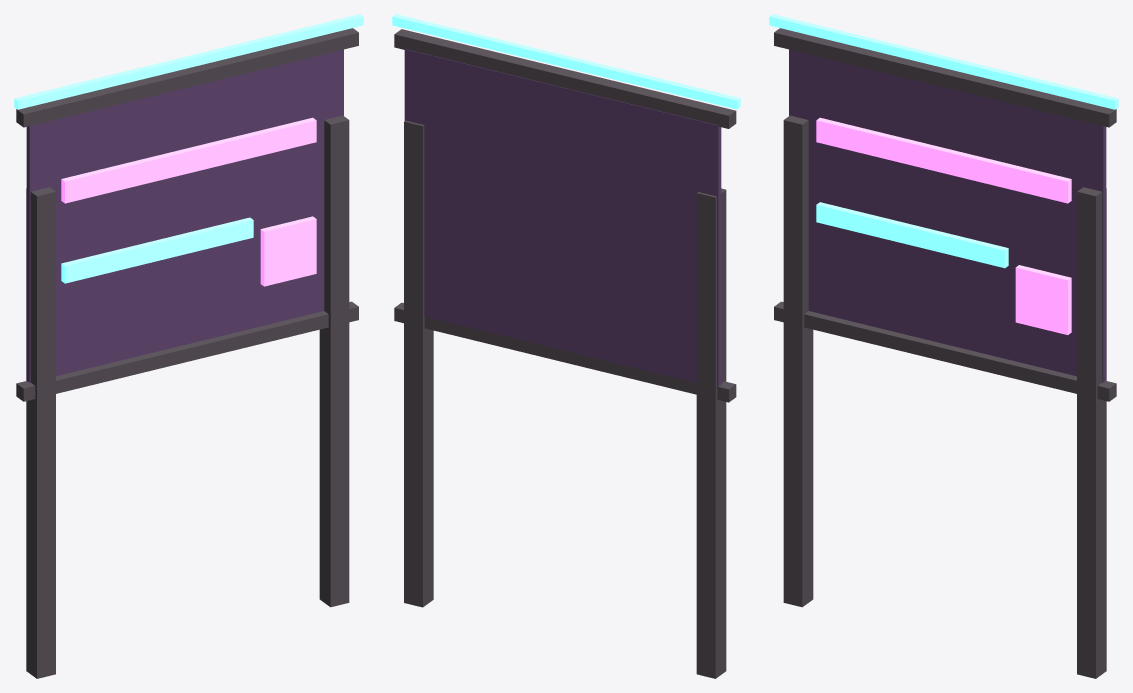
File: env_neon_billboard.glb
3 renders of one model, left to right at view 1: azimuth 30°, elevation 25°; view 2: azimuth 150°, elevation 25°; view 3: azimuth 330°, elevation 25°, orthographic.
Parts seen in each view (by area): view 1: env_neon_billboard; view 2: env_neon_billboard; view 3: env_neon_billboard.
Boxes of the visible parts, x1,y1,x2,y2 form: env_neon_billboard: [14, 14, 363, 678]; env_neon_billboard: [392, 14, 740, 678]; env_neon_billboard: [769, 14, 1118, 678].
Bounding box in the file's own units: 3.3 × 5.29 × 0.18.
